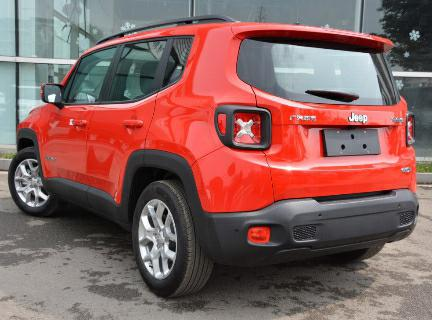Jeep-自由侠: (10, 15, 421, 310)
